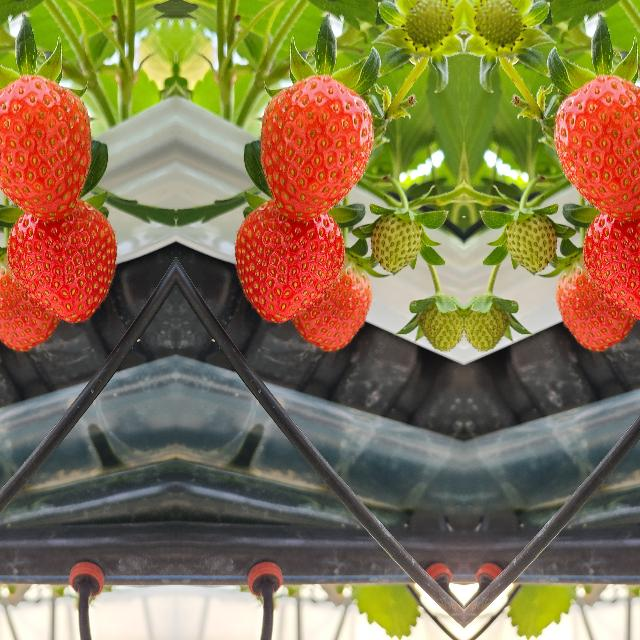Health_100: (258, 74, 374, 220), (234, 198, 344, 322), (6, 198, 116, 322), (0, 73, 91, 220), (552, 73, 640, 220), (556, 250, 638, 358), (288, 250, 369, 358), (582, 197, 640, 322), (0, 250, 61, 358)
Health_25: (368, 213, 424, 274), (502, 213, 558, 274), (413, 296, 462, 350), (463, 296, 512, 350)
